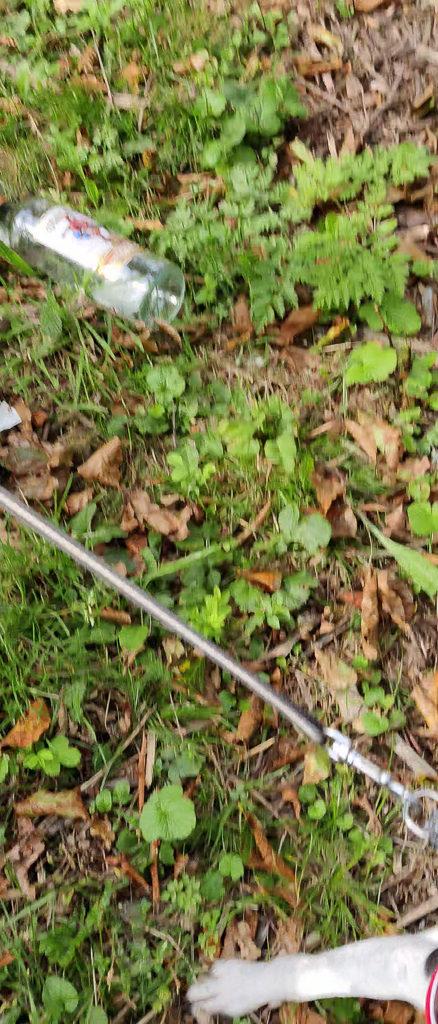Dog: (166, 914, 438, 1024)
